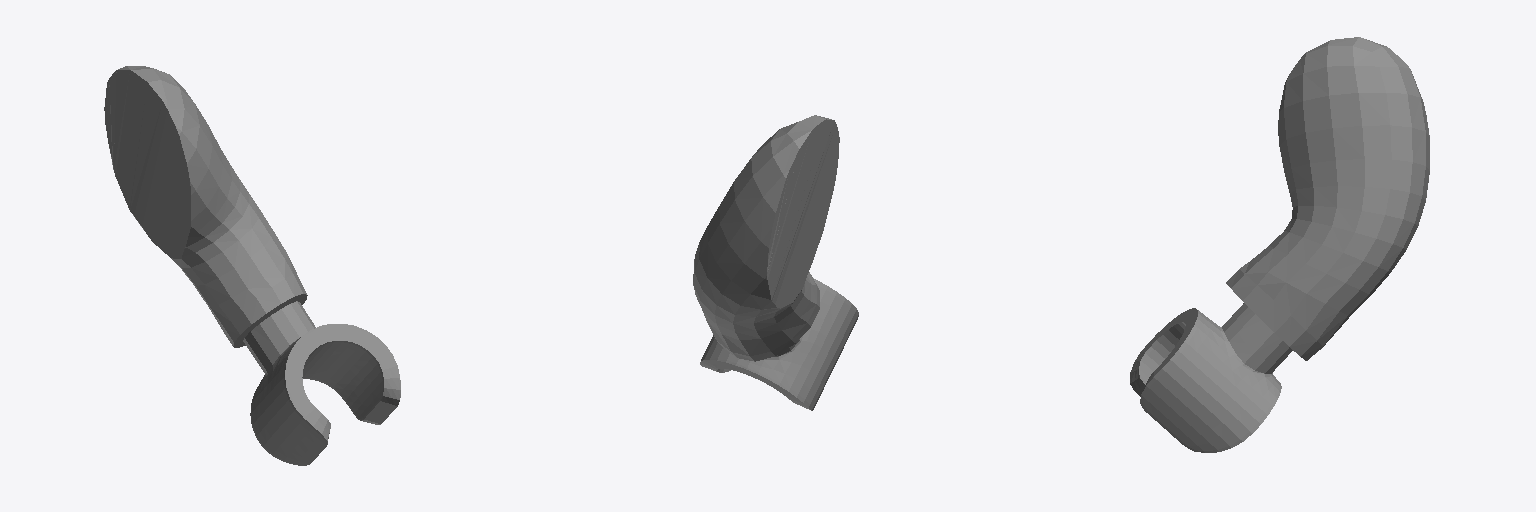
File: brazoIzq.obj
3 views of the same model, side by side, from view 1: azimuth 30°, elevation 25°; view 2: azimuth 150°, elevation 25°; view 3: azimuth 270°, elevation 25° (orthographic).
Visible parts, largest first — view 1: brazoIzqHomero; view 2: brazoIzqHomero; view 3: brazoIzqHomero.
Boxes of the visible parts, <box> form: brazoIzqHomero: <box>104,66,400,465</box>; brazoIzqHomero: <box>693,115,858,410</box>; brazoIzqHomero: <box>1130,37,1429,452</box>.
Size of the model in its own units: 1.23 by 2.44 by 1.87.